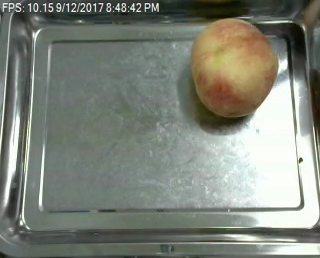Peach: (189, 16, 279, 117)
